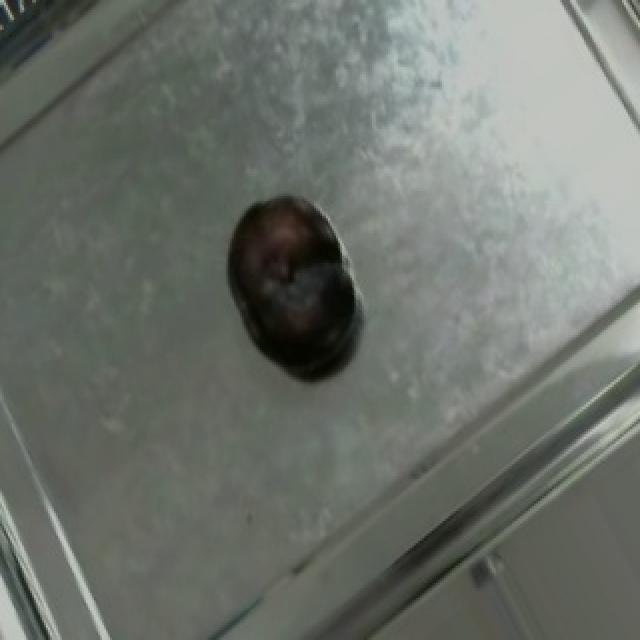Fruit: (204, 171, 368, 382)
